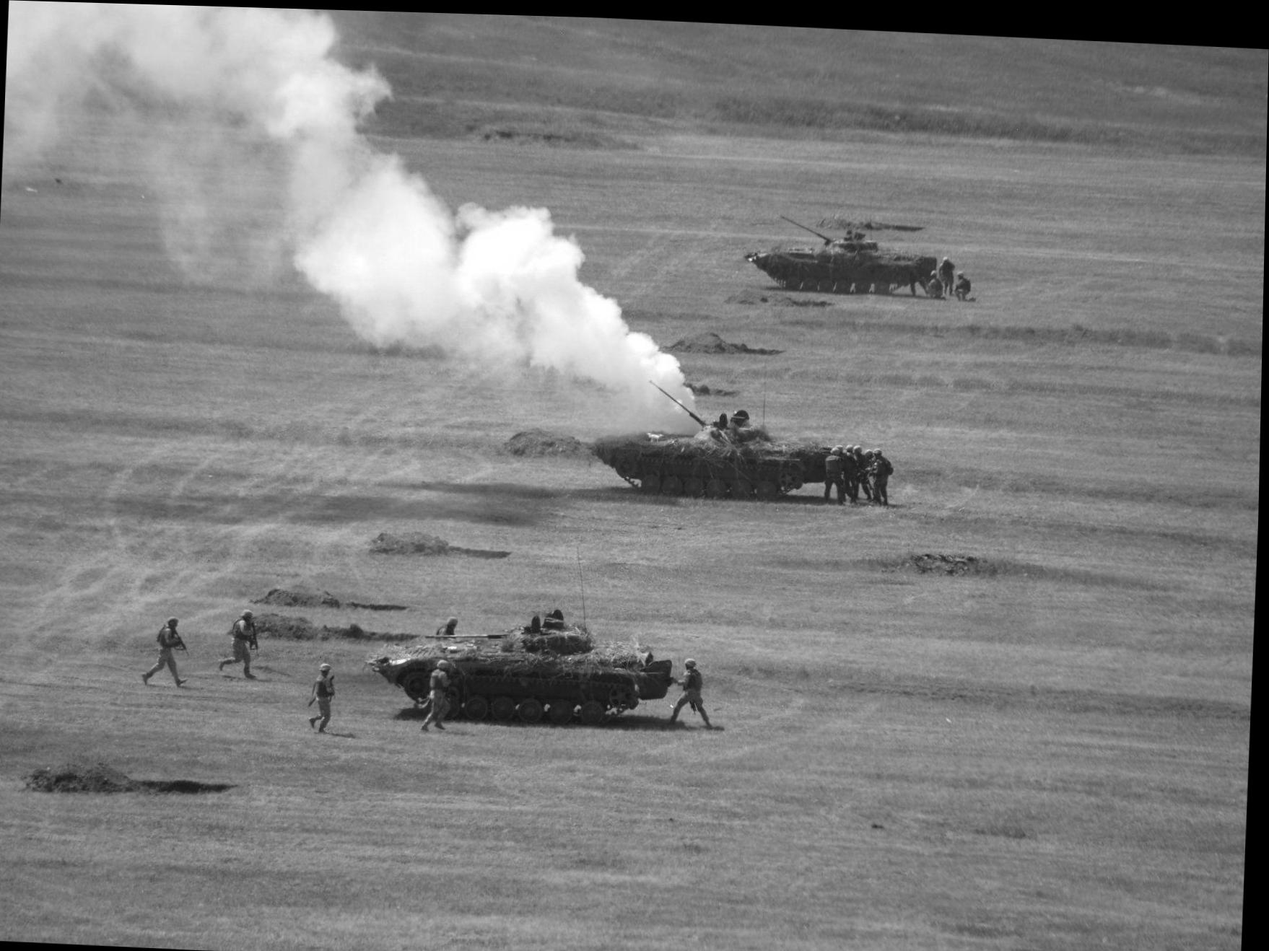person: (141, 614, 189, 688), (669, 656, 714, 731), (217, 607, 260, 681), (419, 656, 453, 734), (305, 659, 337, 737), (821, 441, 846, 512), (831, 443, 858, 505), (871, 449, 894, 507), (851, 445, 873, 501), (953, 269, 977, 303), (936, 255, 955, 294), (925, 270, 947, 299), (436, 614, 458, 638)
tank: (363, 604, 675, 749), (585, 375, 840, 505), (740, 211, 936, 300)
